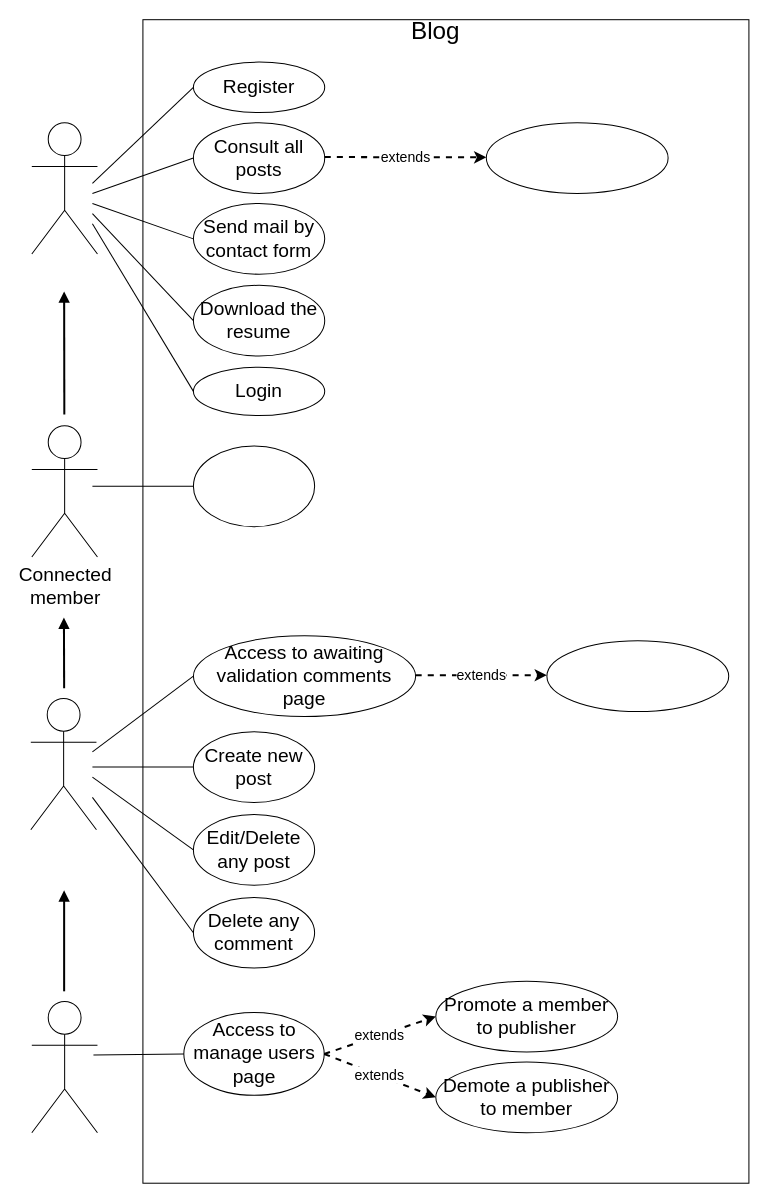
Some shapes in this 767 by 1204 pixel diagram are drawn without their labels. The centre of each missing label's shape, as x and y in pixels:
"Connected admin" belongs at (64,1066).
"Connected publisher" belongs at (63,763).
"Consult one post and its comments" belongs at (576,157).
"Post a comment" belongs at (253,486).
"Validate or delete comment" belongs at (637,676).
"Visitor" belongs at (64,188).
